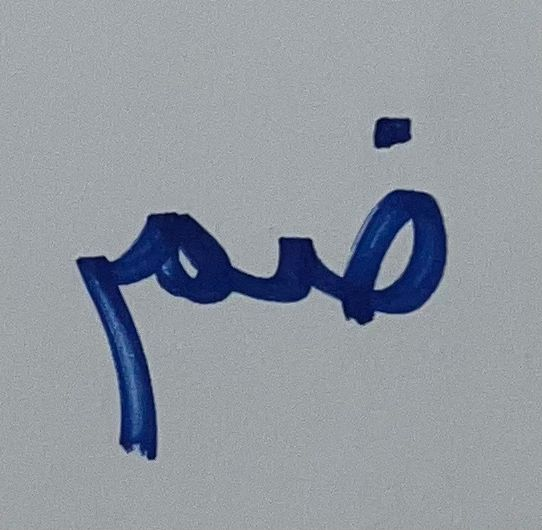meem: (59, 159, 262, 467)
qaf: (268, 86, 487, 343)
